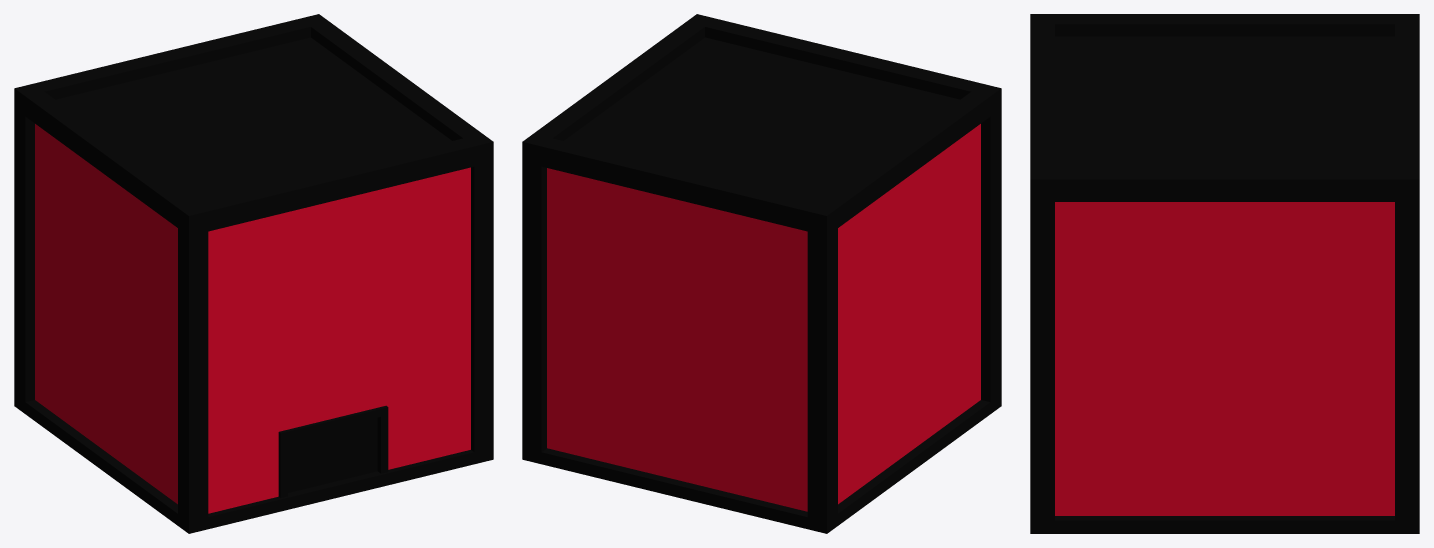
3 renders of one model, left to right at view 1: azimuth 30°, elevation 25°; view 2: azimuth 150°, elevation 25°; view 3: azimuth 270°, elevation 25°, orthographic. The views are drawn at different scales.
Parts seen in each view (by area): view 1: Building6; view 2: Building6; view 3: Building6.
Part boxes in pixels (<box>): Building6: <box>14,14,493,533</box>; Building6: <box>522,14,1001,533</box>; Building6: <box>1030,14,1419,533</box>.
Size of the model in its own units: 3167 by 3158 by 3144.
